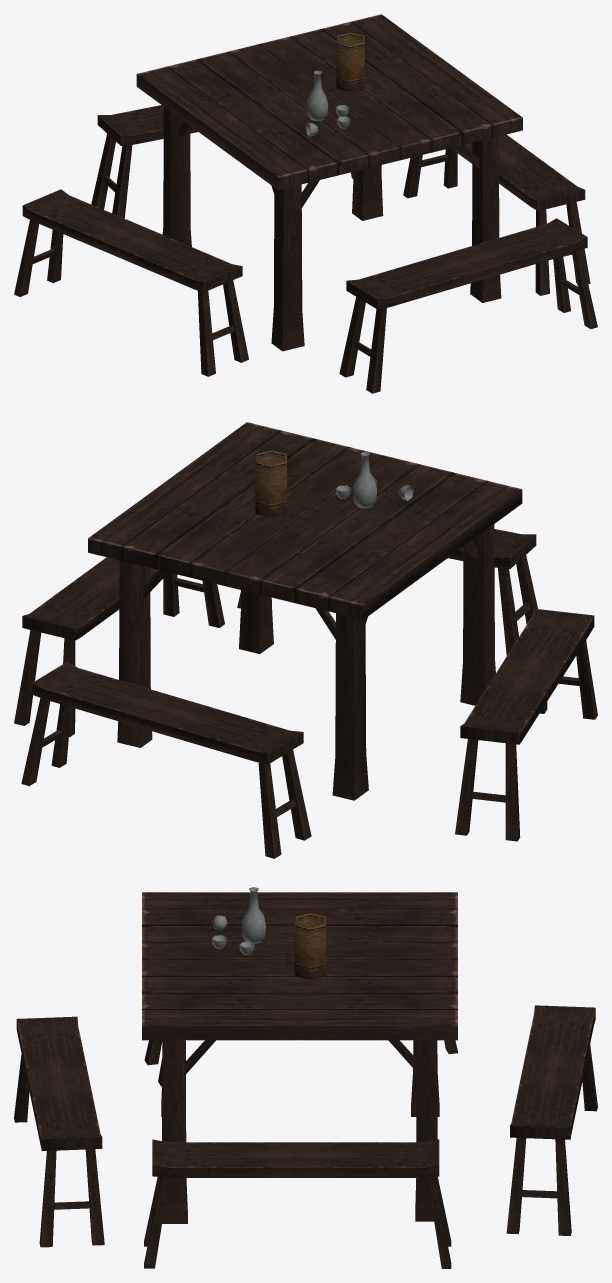
Rendered from FurnitureE.FBX.
The picture shows the model from 3 angles, top to bottom: view 1: azimuth 30°, elevation 25°; view 2: azimuth 150°, elevation 25°; view 3: azimuth 270°, elevation 25°; orthographic projection. The views are drawn at different scales.
Parts seen in each view (by area): view 1: FurnitureE_ms1; view 2: FurnitureE_ms1; view 3: FurnitureE_ms1.
Boxes of the visible parts, <box> form: FurnitureE_ms1: <box>14,14,597,393</box>; FurnitureE_ms1: <box>14,422,597,858</box>; FurnitureE_ms1: <box>14,887,597,1268</box>.
Bounding box in the file's own units: 238 × 118 × 243.
